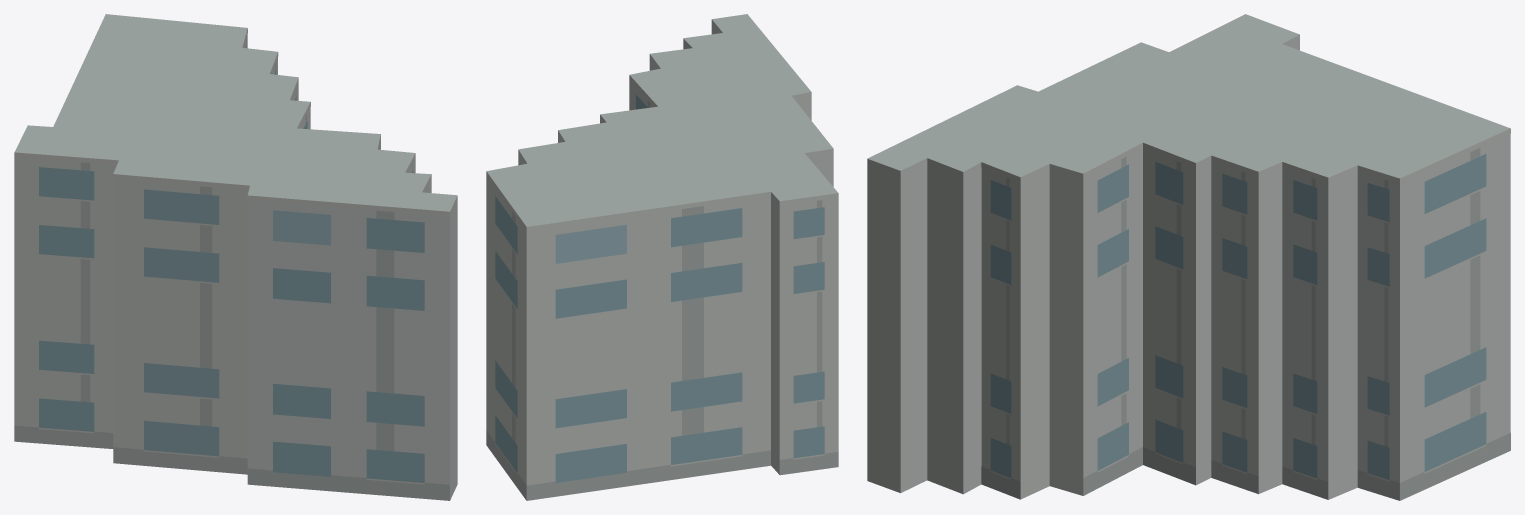
Rendered from survey-upis-32758749.glb.
The picture shows the model from 3 angles, left to right: view 1: azimuth 30°, elevation 25°; view 2: azimuth 150°, elevation 25°; view 3: azimuth 270°, elevation 25°; orthographic projection. The views are drawn at different scales.
Visible parts, largest first — view 1: survey-upis-32758749.tmp; view 2: survey-upis-32758749.tmp; view 3: survey-upis-32758749.tmp.
Part boxes in pixels (x1,y1,x2,y2): survey-upis-32758749.tmp: (14,14,457,500); survey-upis-32758749.tmp: (486,14,838,500); survey-upis-32758749.tmp: (867,14,1510,500).
Bounding box in the file's own units: 15.99 × 14.6 × 26.42.
